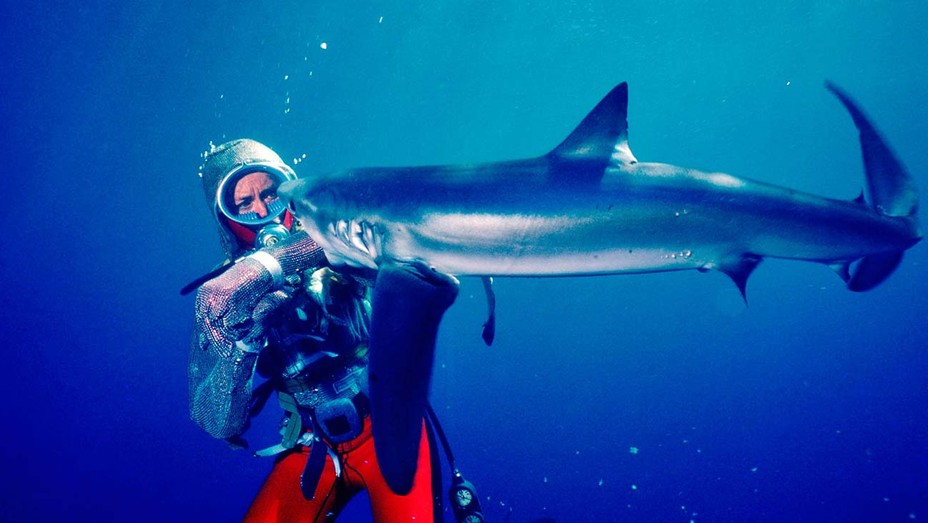shark: (302, 84, 923, 329)
